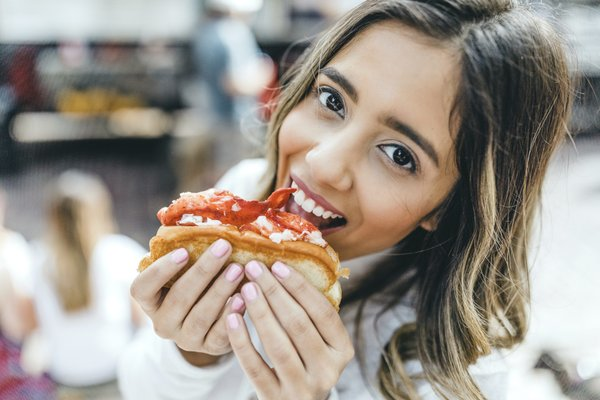burger: (146, 184, 343, 303)
